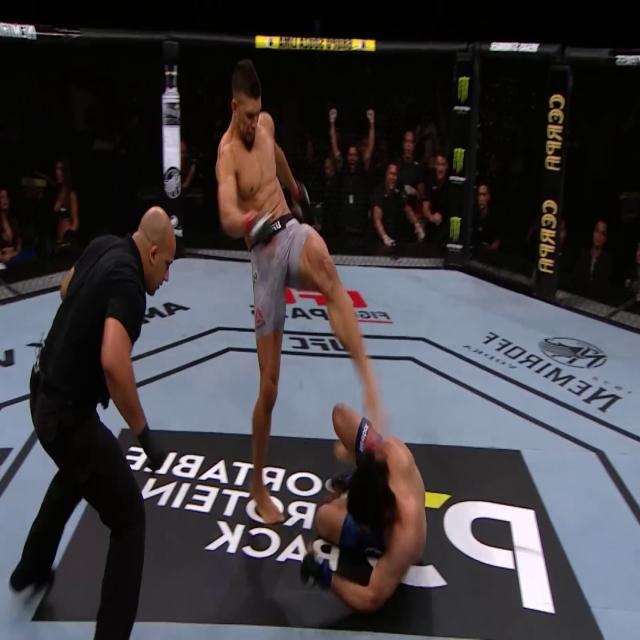non-violence: (9, 206, 174, 640), (311, 86, 618, 295)
violence: (216, 60, 426, 612)
